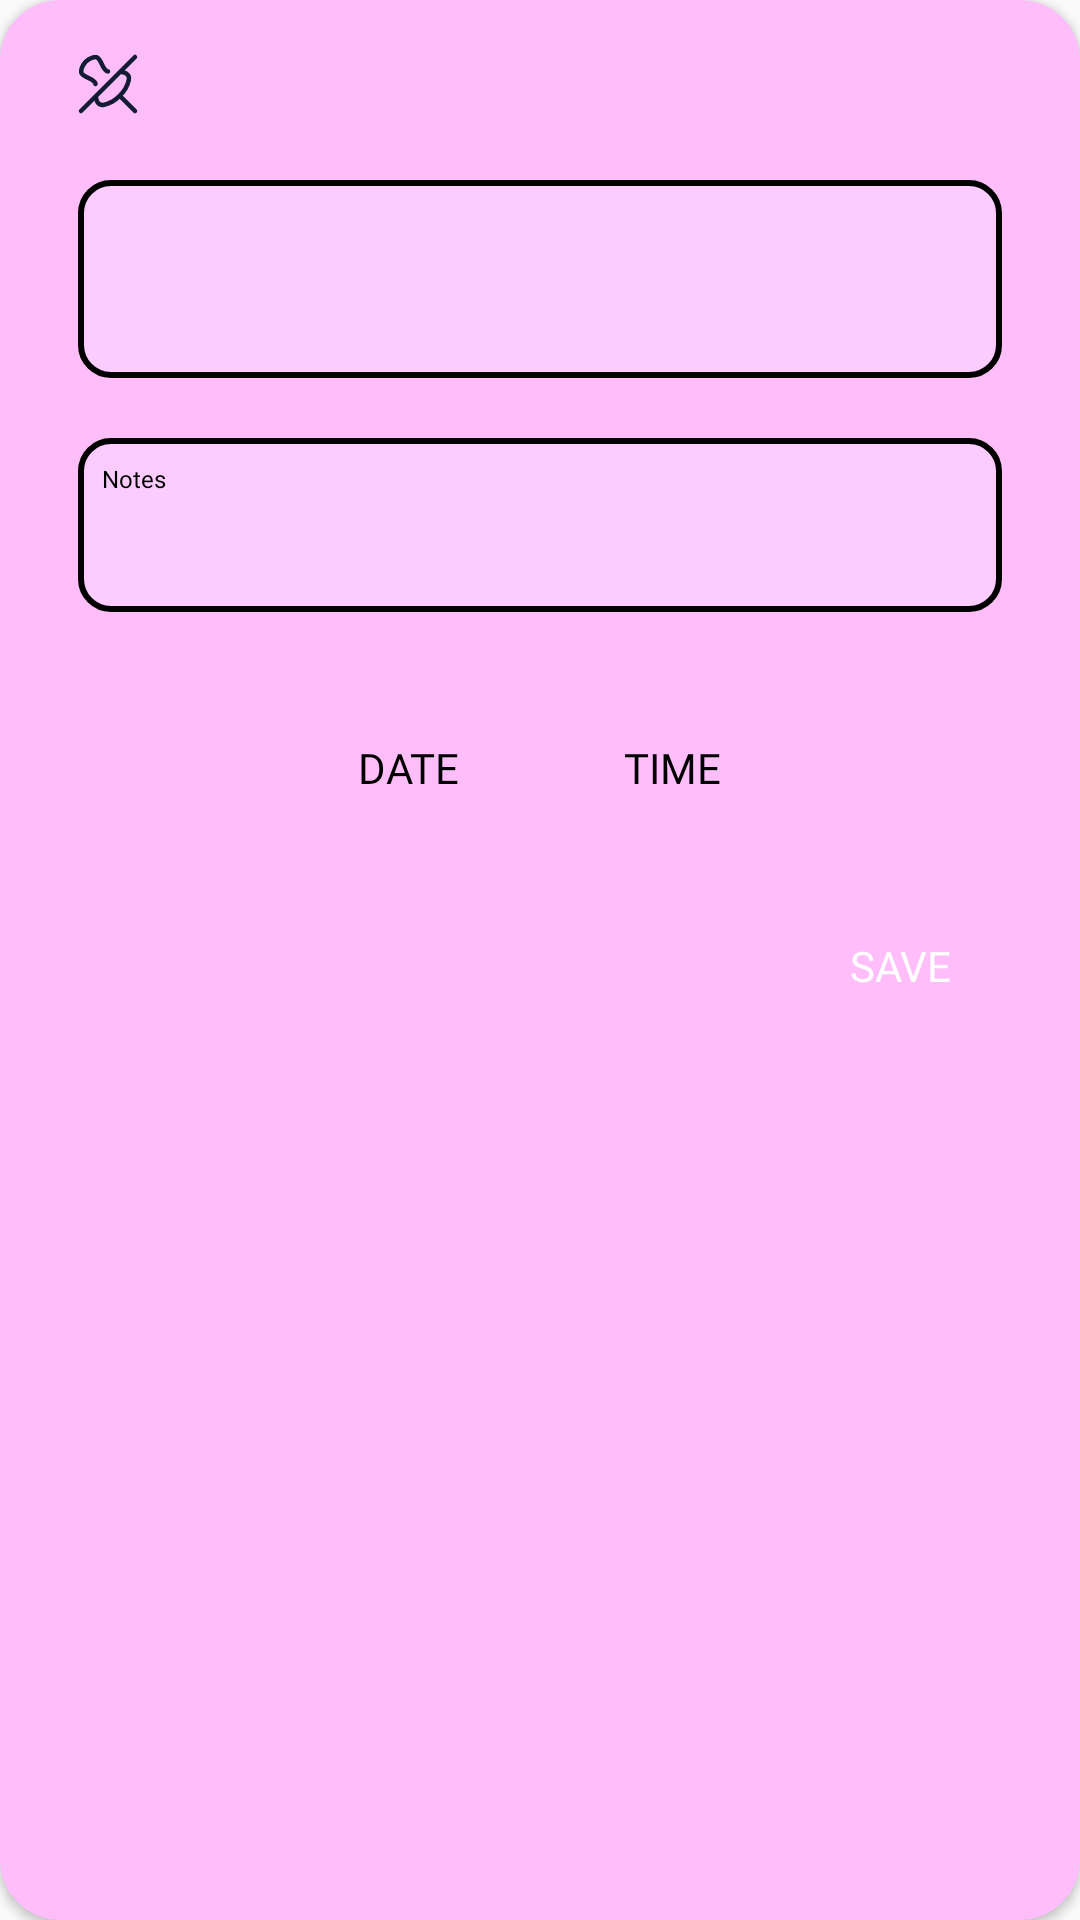

Named icons in this screenshot (1080w x 1920h) and their bounding boxes, detection(x1, y1, x2, y2):
pin off: detection(78, 54, 138, 114)
